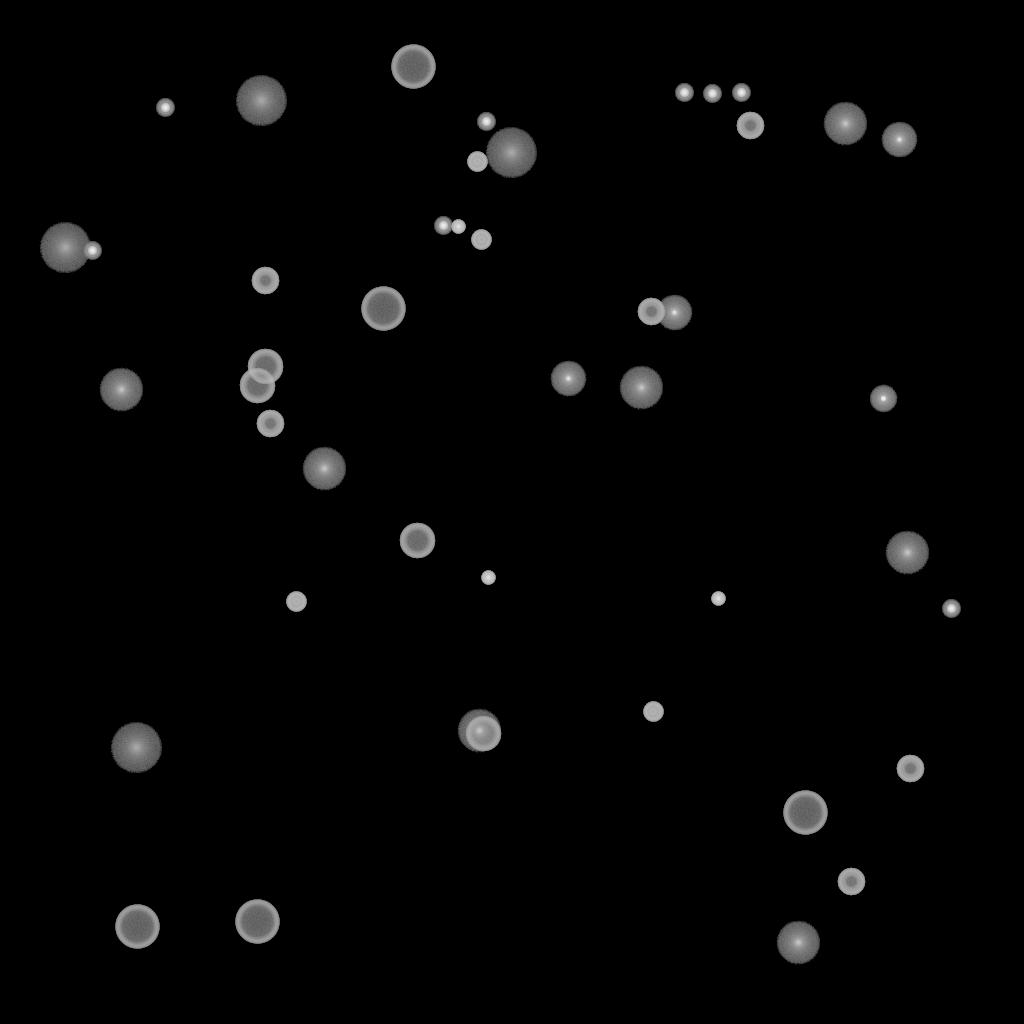depth:-10: (869, 385, 897, 413)
depth:-20: (732, 84, 750, 102), (156, 99, 174, 117), (83, 242, 101, 260), (477, 113, 495, 131), (434, 217, 452, 235), (675, 84, 693, 102), (942, 600, 960, 618), (703, 85, 721, 103)
depth:-30: (711, 592, 725, 606), (481, 571, 495, 585), (451, 220, 465, 234)
depth:-40: (471, 230, 491, 250), (467, 152, 487, 172), (286, 592, 306, 612), (643, 702, 663, 722)
depth:-50: (736, 112, 764, 140), (251, 267, 279, 295), (837, 868, 865, 896), (637, 298, 665, 326), (896, 755, 924, 783), (256, 410, 284, 438)
depth:-60: (239, 368, 275, 404), (247, 349, 283, 385), (465, 716, 501, 752), (399, 523, 435, 559)
depth:-70: (391, 45, 435, 89), (235, 900, 279, 944), (783, 791, 827, 835), (115, 905, 159, 949), (361, 287, 405, 331)
depth:0: (881, 122, 917, 158), (656, 295, 692, 331), (550, 361, 586, 397)
depth:10: (457, 709, 501, 753), (776, 921, 820, 965), (302, 447, 346, 491), (823, 102, 867, 146), (619, 366, 663, 410), (99, 368, 143, 412), (885, 531, 929, 575)
depth:20: (235, 76, 287, 126), (110, 723, 162, 773), (39, 223, 91, 273), (485, 128, 537, 178)
